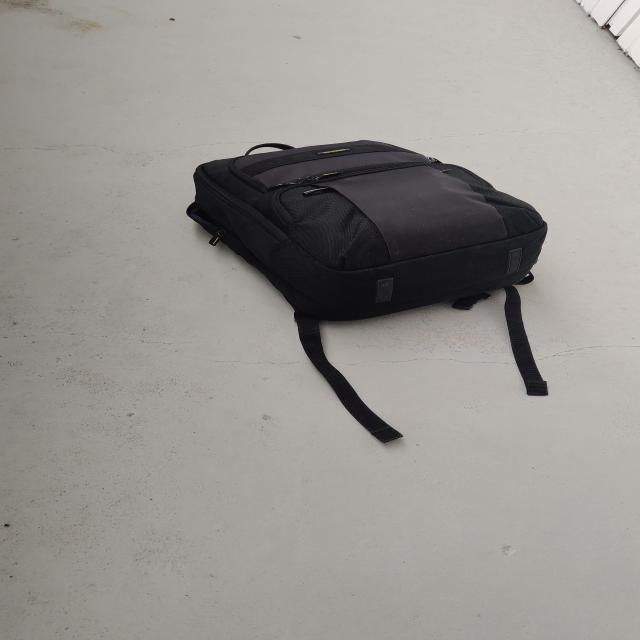backpack: (172, 132, 560, 330)
